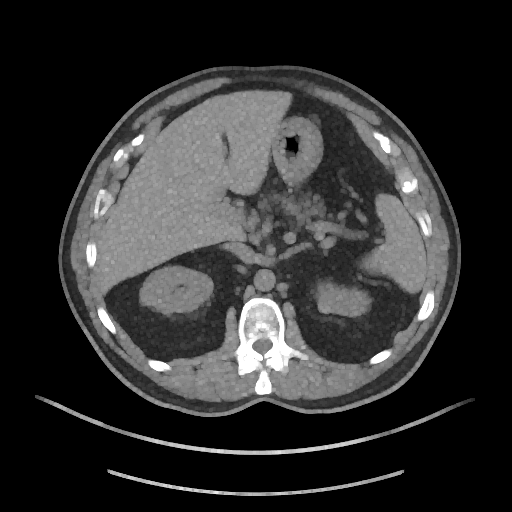Lesion: (313, 295, 337, 315)
